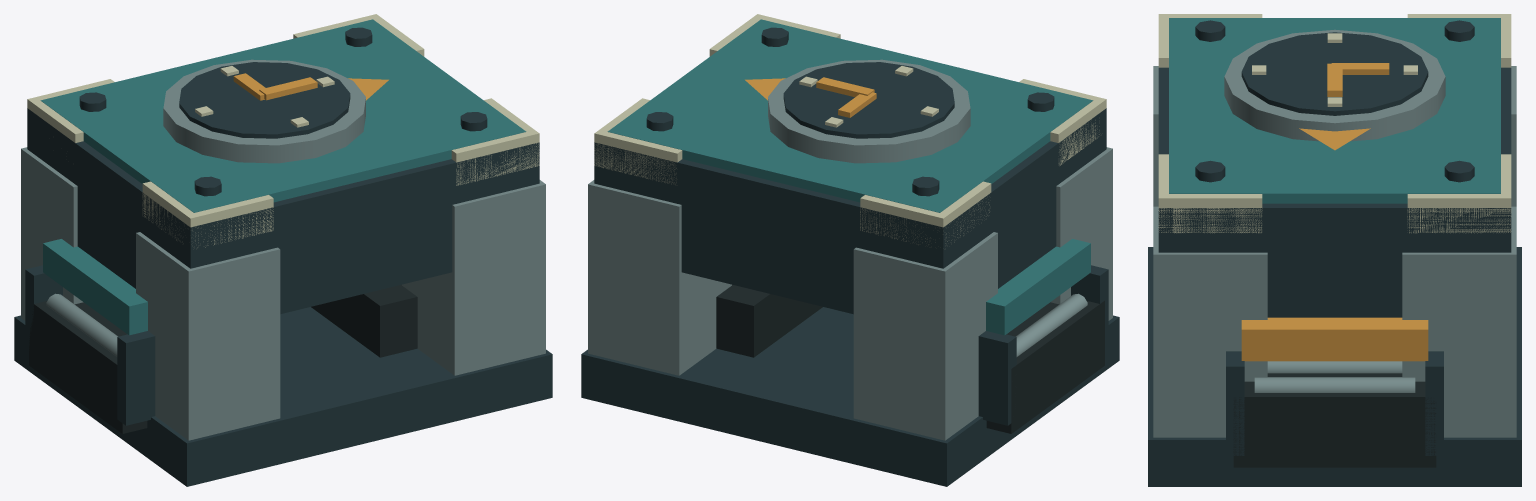
Rendered from timed-dispatch.glb.
3 renders of one model, left to right at view 1: azimuth 30°, elevation 25°; view 2: azimuth 150°, elevation 25°; view 3: azimuth 270°, elevation 25°, orthographic. The views are drawn at different scales.
Visible parts, largest first — view 1: Batched static factory; view 2: Batched static factory; view 3: Batched static factory.
Boxes of the visible parts, x1=… form: Batched static factory: x1=14, y1=14, x2=552, y2=486; Batched static factory: x1=581, y1=14, x2=1119, y2=486; Batched static factory: x1=1148, y1=14, x2=1521, y2=486.
Bounding box in the file's own units: 1 × 0.6715 × 0.72.
